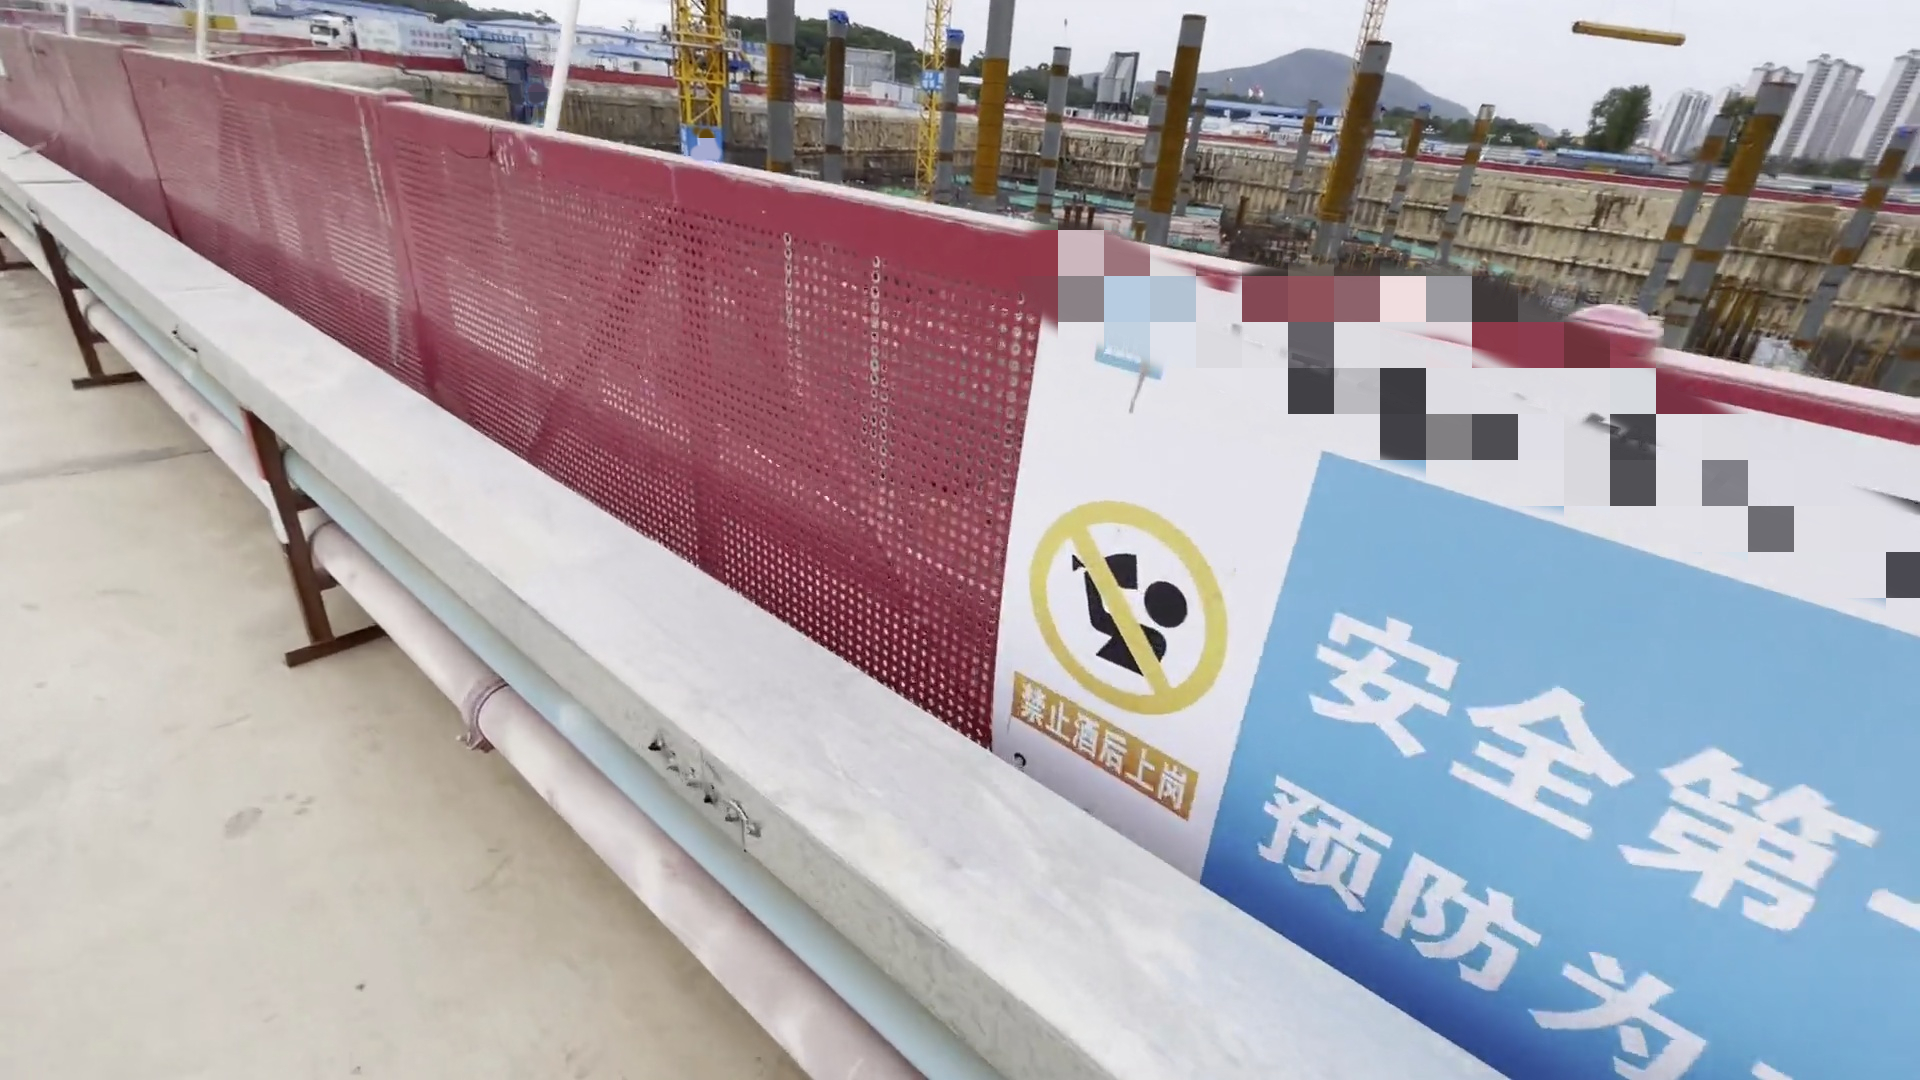fence: (4, 22, 998, 744)
slogan: (1039, 330, 1920, 1047)
